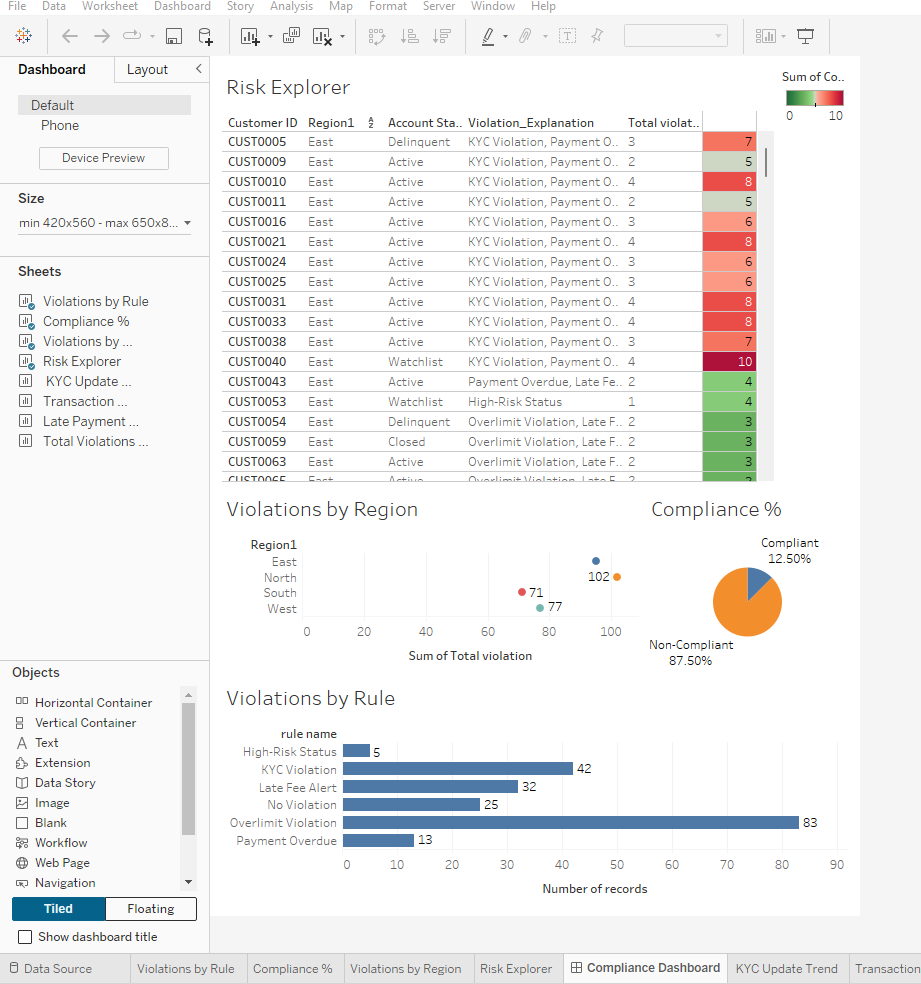

The page's visual inventory and layout, read from the dashboard file:
{"tool":"tableau","page":{"name":"Compliance Dashboard","canvas":[650,860],"ordinal":0},"visuals":[{"type":"worksheet","title":"Risk Explorer","mark":"Square","rows":["Customer_ID","Region","Account_Status","Violation_Explanation","Total_violation"],"box":[8,8,560,422]},{"type":"legend","title":"Risk Explorer","param":"[federated.12z40f80fa0jqb1524li2008l3l0].[sum:Compliance_Risk_Score:qk]","box":[568,8,74,422]},{"type":"worksheet","title":"Violations by Region","mark":"Circle","rows":["Region"],"cols":["Total_violation"],"box":[8,430,425,189.2]},{"type":"worksheet","title":"Compliance %","mark":"Pie","box":[433,430,209,189.2]},{"type":"worksheet","title":"Violations by Rule","mark":"Automatic","rows":["Calculation_770397042261241857"],"cols":["Calculation_770397042264502274"],"box":[8,619.2,634,232.8]}]}

Visuals, with their boxes on the page's 650x860 design canvas (x1, y1, x2, y2). These are canvas units, not pixel positions in the 921x984 screenshot, which may show the page scaled, cropped or inside an application window:
"Risk Explorer" worksheet (Square marks): box=[8, 8, 568, 430]
"Risk Explorer" legend: box=[568, 8, 642, 430]
"Violations by Region" worksheet (Circle marks): box=[8, 430, 433, 619]
"Compliance %" worksheet (Pie marks): box=[433, 430, 642, 619]
"Violations by Rule" worksheet: box=[8, 619, 642, 852]
